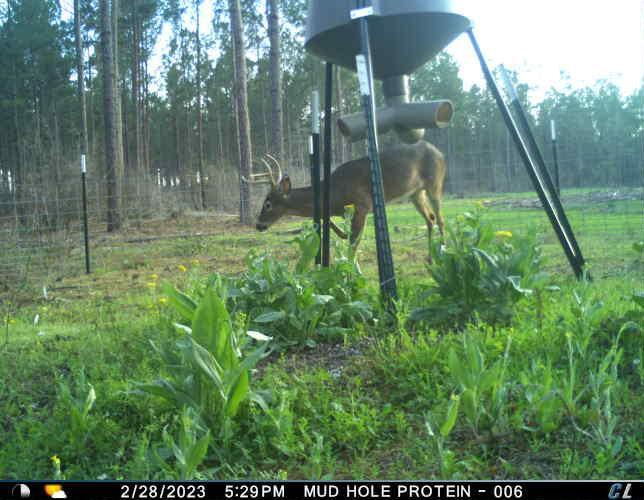Deer: (245, 137, 451, 274)
